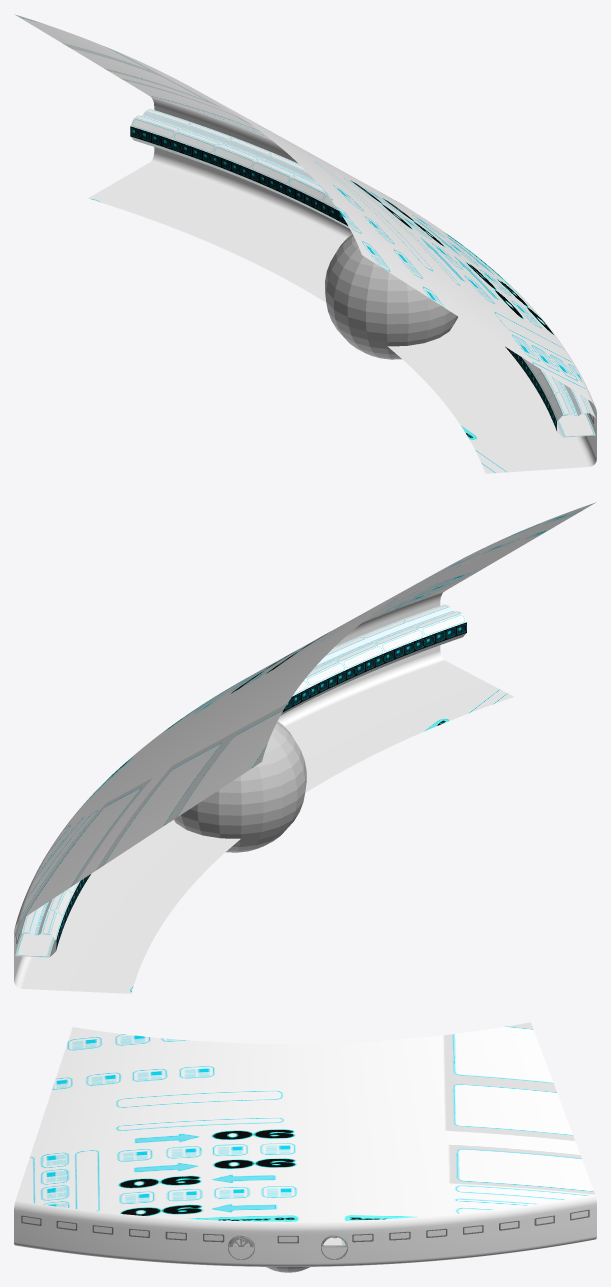
Rendered from bridge2.fbx.
3 views of the same model, one above another, from view 1: azimuth 30°, elevation 25°; view 2: azimuth 150°, elevation 25°; view 3: azimuth 270°, elevation 25° (orthographic). The views are drawn at different scales.
Parts seen in each view (by area): view 1: corridor_7539.Shape, environmentSphere_1923.Shape; view 2: corridor_7539.Shape, environmentSphere_1923.Shape; view 3: corridor_7539.Shape, bridge_rim_locks_3110.Shape.
Part boxes in pixels (x1,y1,x2,y2): corridor_7539.Shape: (15, 14, 596, 473); environmentSphere_1923.Shape: (325, 234, 457, 359); corridor_7539.Shape: (14, 502, 596, 993); environmentSphere_1923.Shape: (174, 721, 306, 852); corridor_7539.Shape: (14, 1022, 596, 1266); bridge_rim_locks_3110.Shape: (228, 1235, 348, 1259).
Bounding box in the file's own units: 4496 × 4093 × 12152.
Materials: 12 (7 with a texture image).
